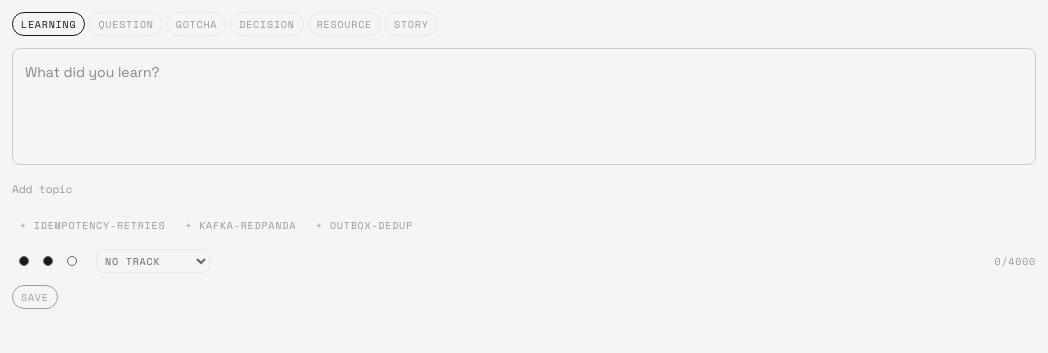
Test: NoteComposer › shows an inline error and keeps the draft when the action fails
In the text box named "Note": [524, 106] box [12,48,1036,165], type "Keep me"
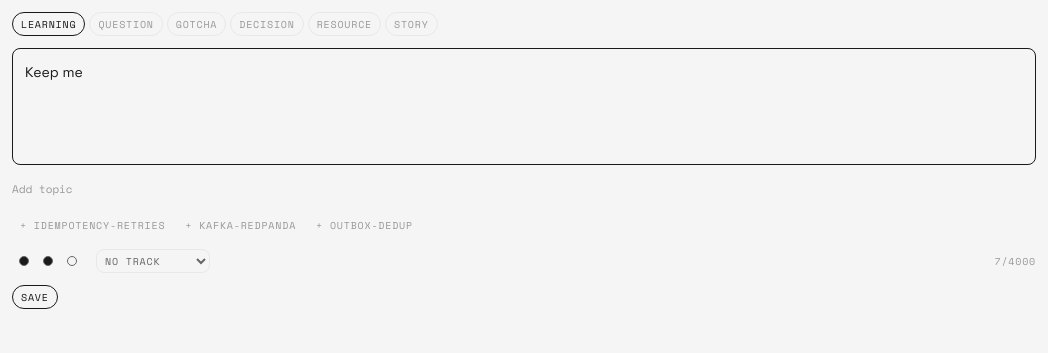
Click the button "SAVE": [35, 297] box [12,285,58,309]
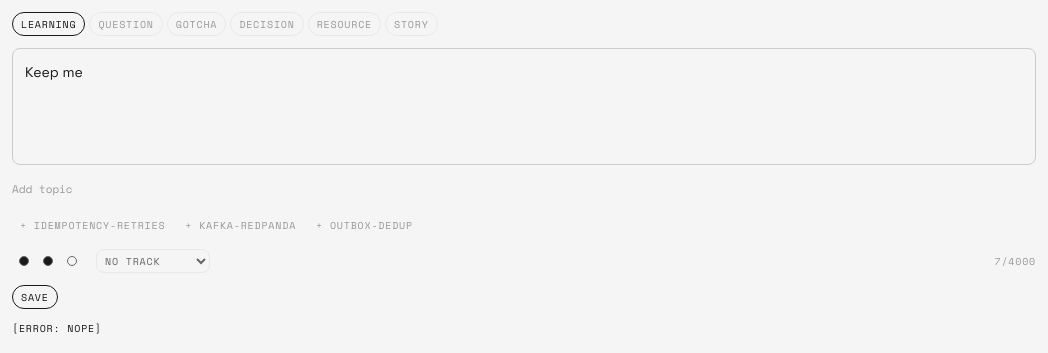
Result: the message reads "[ERROR: Nope]" at [12,321,102,336]
